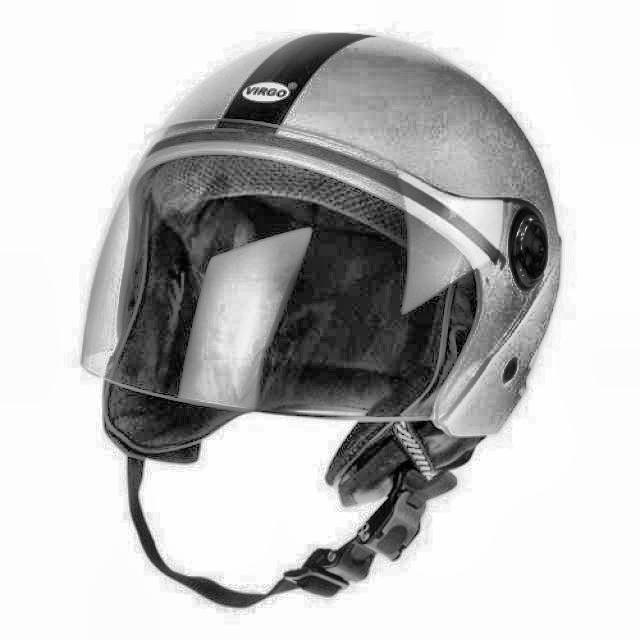Helmet: (69, 19, 567, 616)
